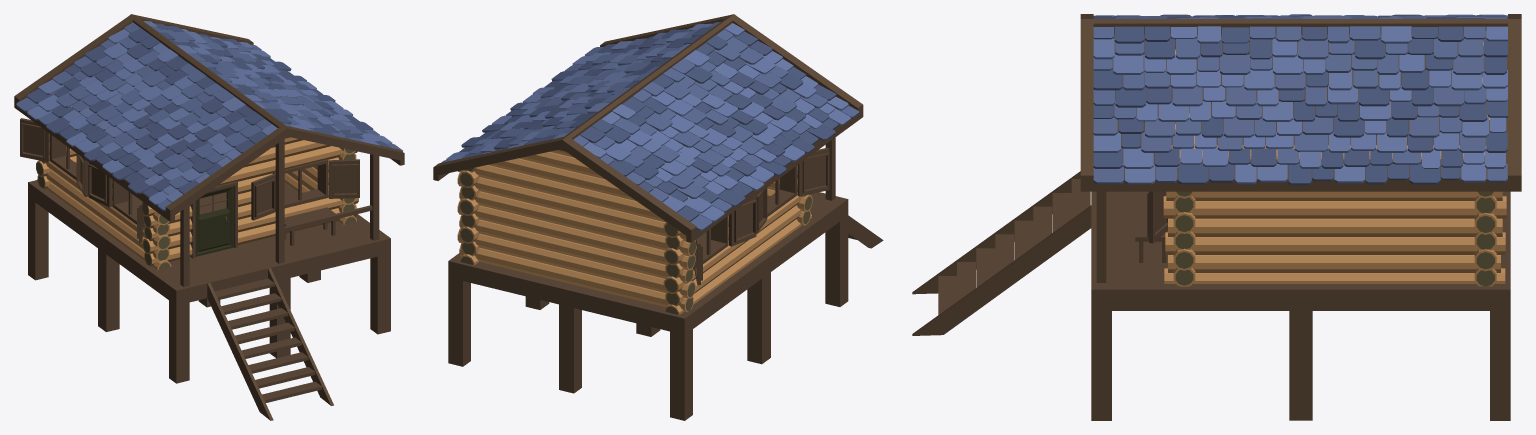
File: Shed_4.fbx
The picture shows the model from 3 angles, left to right: view 1: azimuth 30°, elevation 25°; view 2: azimuth 150°, elevation 25°; view 3: azimuth 270°, elevation 25°; orthographic projection. The views are drawn at different scales.
Parts seen in each view (by area): view 1: Shed_Deck, Tiles-3, Tiles-1, Tiles-2, Cube.026, Stairs, Tiles-3.001, Tiles-1.001, Tiles-2.001, Door, Cylinder.004, Cylinder.019 (+24 smaller); view 2: Shed_Deck, Tiles-3, Tiles-1, Tiles-2, Cube.026, Tiles-3.001, Tiles-1.001, Tiles-2.001, Cylinder.028, Cylinder.031, Cylinder.029, Cylinder.030 (+16 smaller); view 3: Shed_Deck, Tiles-3.001, Tiles-1.001, Tiles-2.001, Cube.026, Stairs, Cylinder.034, Cylinder.035, Cylinder.033, Cylinder.038, Cylinder.048, Cylinder.036 (+5 smaller).
Boxes of the visible parts, x1=… form: Shed_Deck: x1=28, y1=180, x2=390, y2=383; Tiles-3: x1=27, y1=29, x2=277, y2=205; Tiles-1: x1=27, y1=28, x2=266, y2=197; Tiles-2: x1=16, y1=22, x2=271, y2=210; Cube.026: x1=14, y1=14, x2=404, y2=221; Stairs: x1=207, y1=268, x2=333, y2=420; Tiles-3.001: x1=143, y1=21, x2=392, y2=145; Tiles-1.001: x1=154, y1=23, x2=391, y2=147; Tiles-2.001: x1=151, y1=26, x2=402, y2=151; Door: x1=195, y1=186, x2=234, y2=256; Cylinder.004: x1=46, y1=170, x2=169, y2=261; Cylinder.019: x1=217, y1=146, x2=357, y2=185; Shed_Deck: x1=448, y1=192, x2=848, y2=420; Tiles-3: x1=583, y1=23, x2=850, y2=221; Tiles-1: x1=580, y1=31, x2=838, y2=221; Tiles-2: x1=573, y1=29, x2=859, y2=230; Cube.026: x1=433, y1=14, x2=863, y2=242; Tiles-3.001: x1=446, y1=23, x2=712, y2=161; Tiles-1.001: x1=459, y1=27, x2=713, y2=158; Tiles-2.001: x1=441, y1=21, x2=720, y2=162; Cylinder.028: x1=459, y1=186, x2=696, y2=256; Cylinder.031: x1=457, y1=228, x2=695, y2=298; Cylinder.029: x1=457, y1=200, x2=695, y2=270; Cylinder.030: x1=459, y1=217, x2=693, y2=283; Shed_Deck: x1=1091, y1=191, x2=1510, y2=420; Tiles-3.001: x1=1093, y1=26, x2=1507, y2=184; Tiles-1.001: x1=1092, y1=26, x2=1507, y2=185; Tiles-2.001: x1=1093, y1=26, x2=1507, y2=184; Cube.026: x1=1080, y1=14, x2=1521, y2=191; Stairs: x1=912, y1=171, x2=1091, y2=335; Cylinder.034: x1=1168, y1=218, x2=1502, y2=236; Cylinder.035: x1=1163, y1=196, x2=1506, y2=218; Cylinder.033: x1=1165, y1=232, x2=1505, y2=254; Cylinder.038: x1=1168, y1=255, x2=1500, y2=272; Cylinder.048: x1=1164, y1=268, x2=1505, y2=283; Cylinder.036: x1=1166, y1=191, x2=1502, y2=200.
Bounding box in the file's own units: 524 × 474 × 799.
